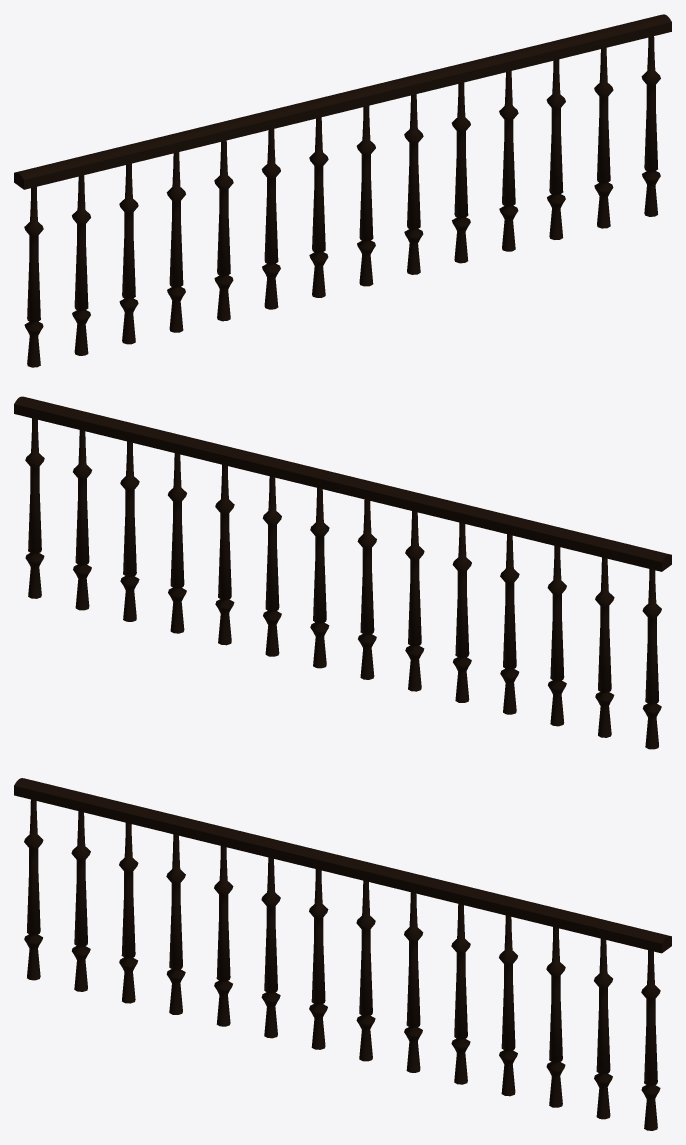
Rendered from Railing.FBX.
3 views of the same model, one above another, from view 1: azimuth 30°, elevation 25°; view 2: azimuth 150°, elevation 25°; view 3: azimuth 330°, elevation 25° (orthographic).
Parts seen in each view (by area): view 1: Railing; view 2: Railing; view 3: Railing.
Part boxes in pixels (x1,y1,x2,y2): Railing: (14,14,671,367); Railing: (14,396,671,749); Railing: (14,778,671,1130).
Bounding box in the file's own units: 136 × 39.18 × 3.74.
